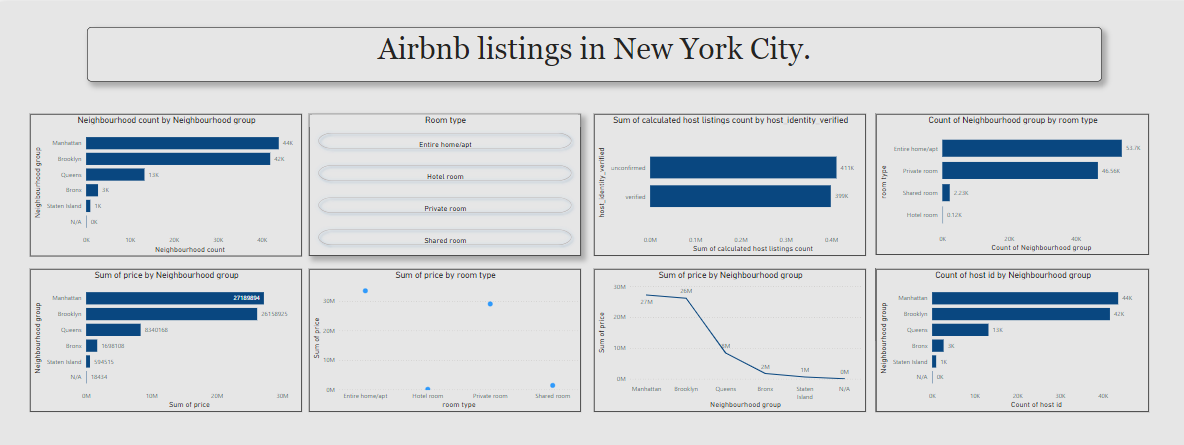

What the dashboard file says about the page in this screenshot:
{"tool":"powerbi","page":{"name":"Page 1","canvas":[2350,900],"ordinal":0},"visuals":[{"type":"barChart","fields":{"Category":["Table1.neighbourhood group"],"Y":["Table1.Neighbourhood count"]},"box":[65.4,219.8,533.3,279],"z":0},{"type":"barChart","fields":{"Y":["Sum(Table1.price)"],"Category":["Table1.neighbourhood group"]},"box":[64.7,523.5,533.3,280.4],"z":1000},{"type":"scatterChart","fields":{"X":["Table1.room type"],"Y":["Sum(Table1.price)"]},"box":[611.8,523.5,533.3,280.4],"z":2000},{"type":"barChart","fields":{"Category":["Table1.room type"],"Y":["CountNonNull(Table1.Neighbourhood group)"]},"box":[1723.5,219.6,535.3,276.5],"z":3000},{"type":"clusteredBarChart","fields":{"Y":["Sum(Table1.calculated host listings count)"],"Category":["Table1.host_identity_verified"]},"box":[1170.6,219.6,533.3,278.4],"z":4000},{"type":"clusteredBarChart","fields":{"Y":["Count(Table1.host id)"],"Category":["Table1.Neighbourhood group"]},"box":[1723.5,523.5,535.3,280.4],"z":5000},{"type":"textbox","box":[175.9,48.3,1989.7,106.9],"z":6000},{"type":"lineChart","fields":{"Y":["Sum(Table1.price)"],"Category":["Table1.Neighbourhood group"]},"box":[1170.6,523.5,533.3,280.4],"z":7000},{"type":"advancedSlicerVisual","title":"Room type","fields":{"Values":["Table1.room type"]},"box":[611.8,219.6,533.3,278.4],"z":8000}]}

Visuals, with their boxes in screenshot pixels (x1, y1, x2, y2), scaled from the page's 2350x900 canvas onto the 1184x445 screenshot:
barChart - Table1.neighbourhood group x Table1.Neighbourhood count: [33, 109, 302, 247]
barChart - Sum(Table1.price) x Table1.neighbourhood group: [33, 259, 301, 397]
scatterChart - Table1.room type x Sum(Table1.price): [308, 259, 577, 397]
barChart - Table1.room type x CountNonNull(Table1.Neighbourhood group): [868, 109, 1138, 245]
clusteredBarChart - Sum(Table1.calculated host listings count) x Table1.host_identity_verified: [590, 109, 858, 246]
clusteredBarChart - Count(Table1.host id) x Table1.Neighbourhood group: [868, 259, 1138, 397]
textbox: [89, 24, 1091, 77]
lineChart - Sum(Table1.price) x Table1.Neighbourhood group: [590, 259, 858, 397]
"Room type" advancedSlicerVisual: [308, 109, 577, 246]
